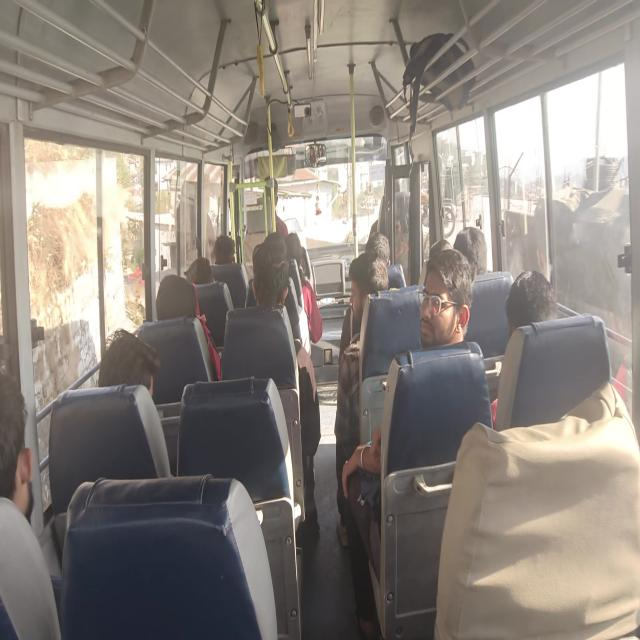person: (0, 392, 59, 582), (89, 316, 162, 398), (414, 256, 482, 340), (499, 268, 556, 346), (348, 248, 396, 330), (158, 272, 202, 338), (252, 242, 288, 317), (442, 225, 486, 272), (214, 227, 246, 270), (188, 258, 222, 298), (262, 236, 292, 269), (362, 230, 389, 262), (425, 232, 453, 260), (284, 232, 304, 265)
